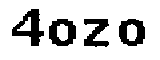0: (48, 14, 78, 52)
4: (8, 5, 46, 52)
o: (117, 17, 146, 49)
z: (80, 16, 112, 52)
